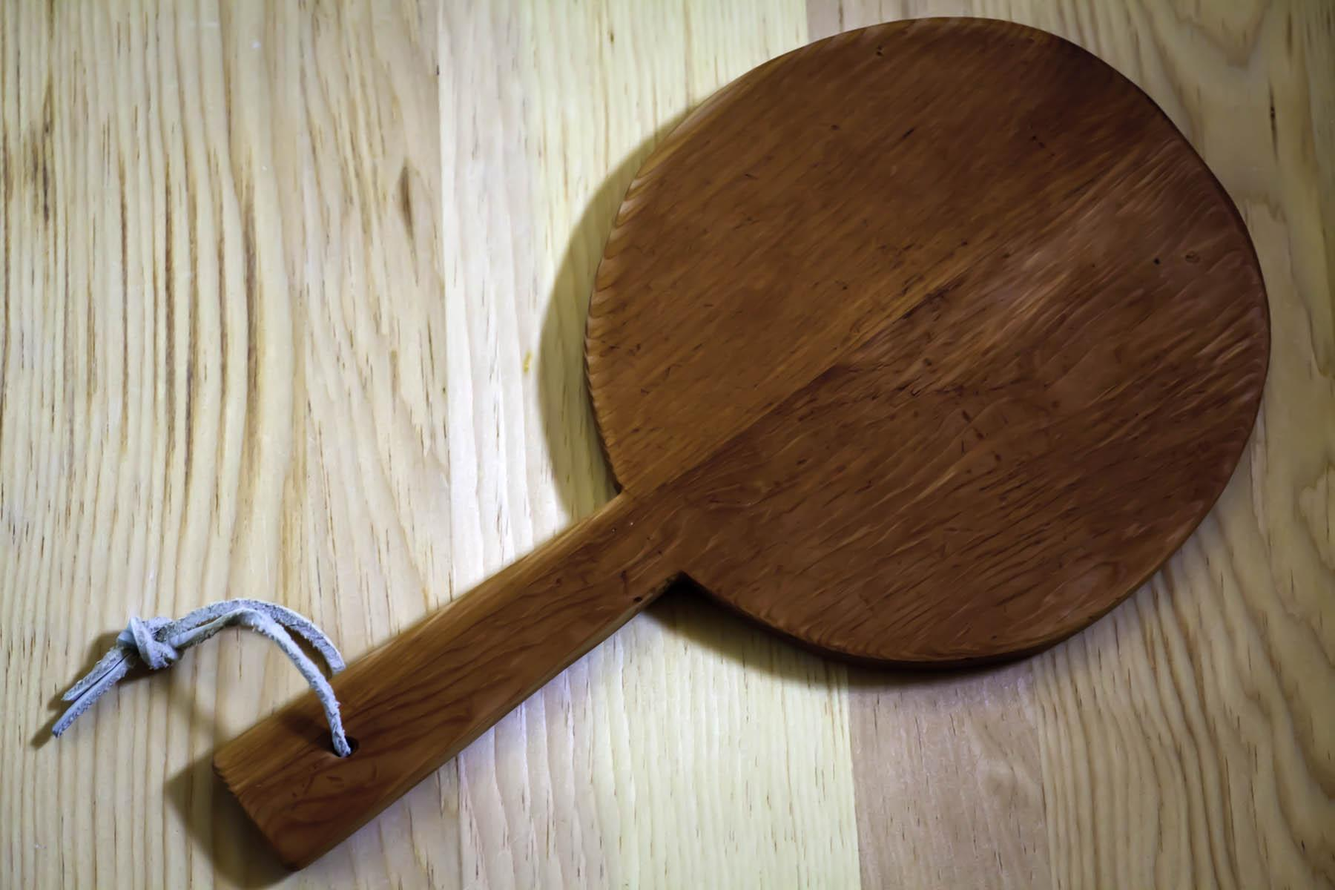gloved_hand: (204, 11, 1281, 869)
